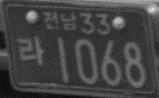0: (73, 39, 99, 87)
1: (55, 35, 70, 84)
3: (78, 12, 96, 34), (96, 12, 110, 35)
6: (99, 38, 123, 87)
8: (122, 40, 147, 89)
라: (16, 33, 45, 68)
전남_O: (42, 10, 77, 31)
